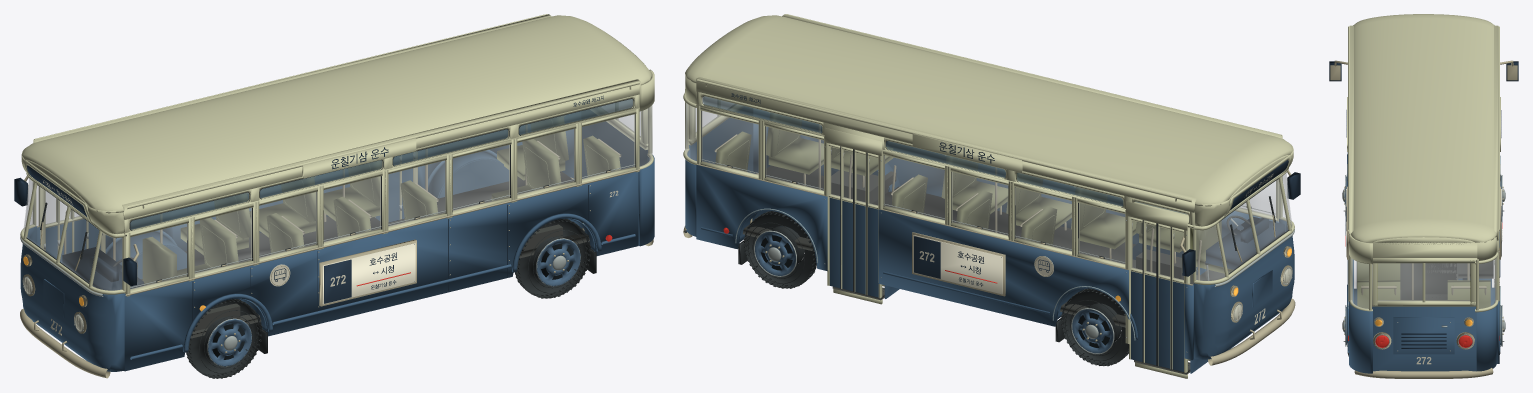
The model's file is bus272_v13.glb.
3 views of the same model, side by side, from view 1: azimuth 30°, elevation 25°; view 2: azimuth 150°, elevation 25°; view 3: azimuth 270°, elevation 25° (orthographic). The views are drawn at different scales.
Parts seen in each view (by area): view 1: MESH_STATIC, MESH_CTRL_WHEEL_1_-1, MESH_CTRL_WHEEL_0_-1, MESH_CTRL_DOOR_REAR_-1_B, MESH_CTRL_DOOR_FRONT_1_A, MESH_CTRL_DOOR_FRONT_1_B; view 2: MESH_STATIC, MESH_CTRL_WHEEL_1_1, MESH_CTRL_WHEEL_0_1, MESH_CTRL_DOOR_FRONT_1_B, MESH_CTRL_DOOR_FRONT_-1_B, MESH_CTRL_DOOR_REAR_1_B, MESH_CTRL_DOOR_FRONT_-1_A, MESH_CTRL_DOOR_REAR_-1_A, MESH_CTRL_DOOR_REAR_-1_B, MESH_CTRL_DOOR_REAR_1_A, MESH_CTRL_DOOR_FRONT_1_A; view 3: MESH_STATIC.
Boxes of the visible parts, x1,y1,x2,y2 form: MESH_STATIC: [14, 14, 654, 378]; MESH_CTRL_WHEEL_1_-1: [515, 218, 591, 298]; MESH_CTRL_WHEEL_0_-1: [186, 299, 262, 378]; MESH_CTRL_DOOR_REAR_-1_B: [388, 155, 402, 222]; MESH_CTRL_DOOR_FRONT_1_A: [44, 191, 58, 258]; MESH_CTRL_DOOR_FRONT_1_B: [56, 198, 74, 262]; MESH_STATIC: [683, 14, 1300, 378]; MESH_CTRL_WHEEL_1_1: [744, 211, 816, 288]; MESH_CTRL_WHEEL_0_1: [1061, 288, 1128, 366]; MESH_CTRL_DOOR_FRONT_1_B: [1157, 223, 1174, 369]; MESH_CTRL_DOOR_FRONT_-1_B: [1143, 220, 1158, 365]; MESH_CTRL_DOOR_REAR_1_B: [854, 149, 869, 294]; MESH_CTRL_DOOR_FRONT_-1_A: [1129, 217, 1143, 362]; MESH_CTRL_DOOR_REAR_-1_A: [827, 143, 840, 288]; MESH_CTRL_DOOR_REAR_-1_B: [841, 146, 854, 291]; MESH_CTRL_DOOR_REAR_1_A: [866, 152, 882, 298]; MESH_CTRL_DOOR_FRONT_1_A: [1171, 227, 1187, 372]; MESH_STATIC: [1329, 14, 1518, 378].
Size of the model in its own units: 9.44 by 3.27 by 3.32.
